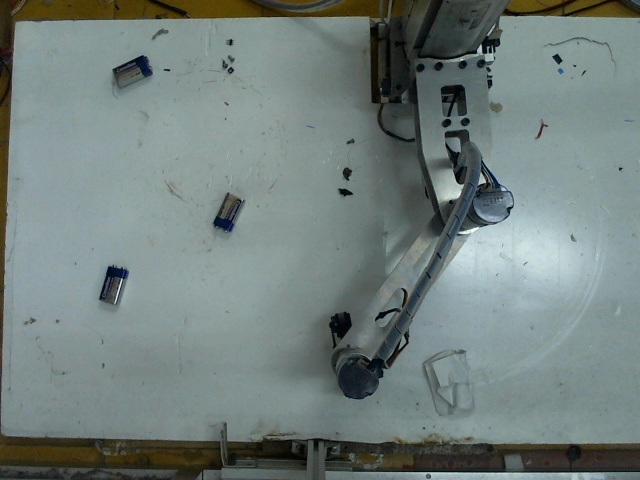battery: (209, 189, 249, 231), (111, 49, 151, 90), (97, 262, 127, 307)
